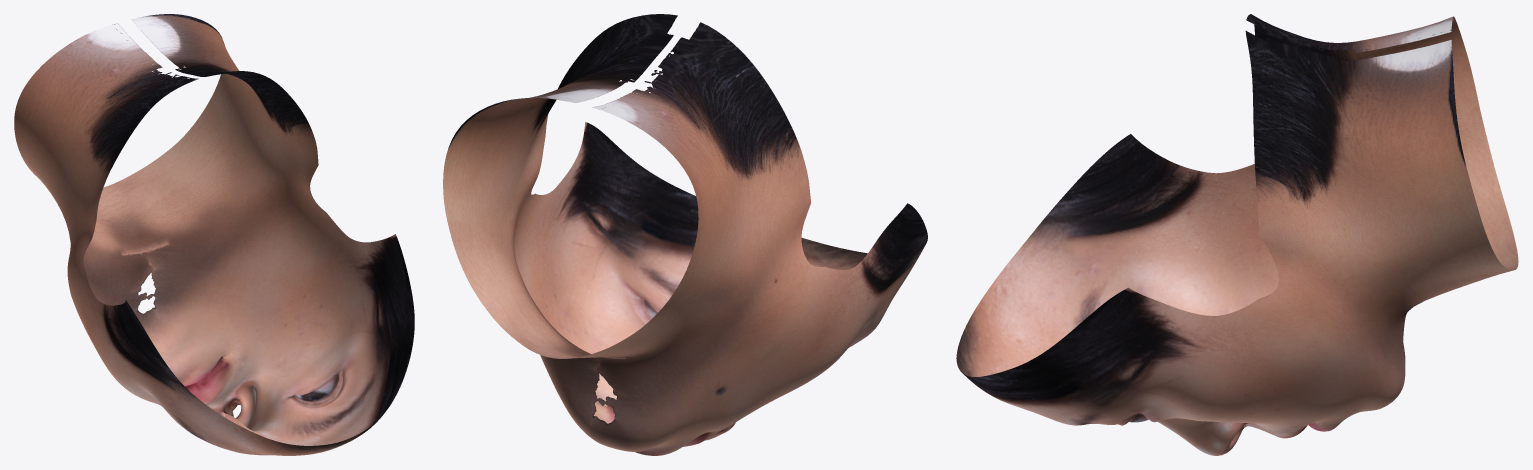
The model's file is AdobeMaleWTexture.fbx.
3 renders of one model, left to right at view 1: azimuth 30°, elevation 25°; view 2: azimuth 150°, elevation 25°; view 3: azimuth 270°, elevation 25°, orthographic. The views are drawn at different scales.
Visible parts, largest first — view 1: FBHead; view 2: FBHead; view 3: FBHead.
Boxes of the visible parts, x1,y1,x2,y2 form: FBHead: (14,14,414,455); FBHead: (443,14,927,455); FBHead: (956,14,1518,455).
Size of the model in its own units: 145 by 186 by 222.
1 material, 1 textured.
